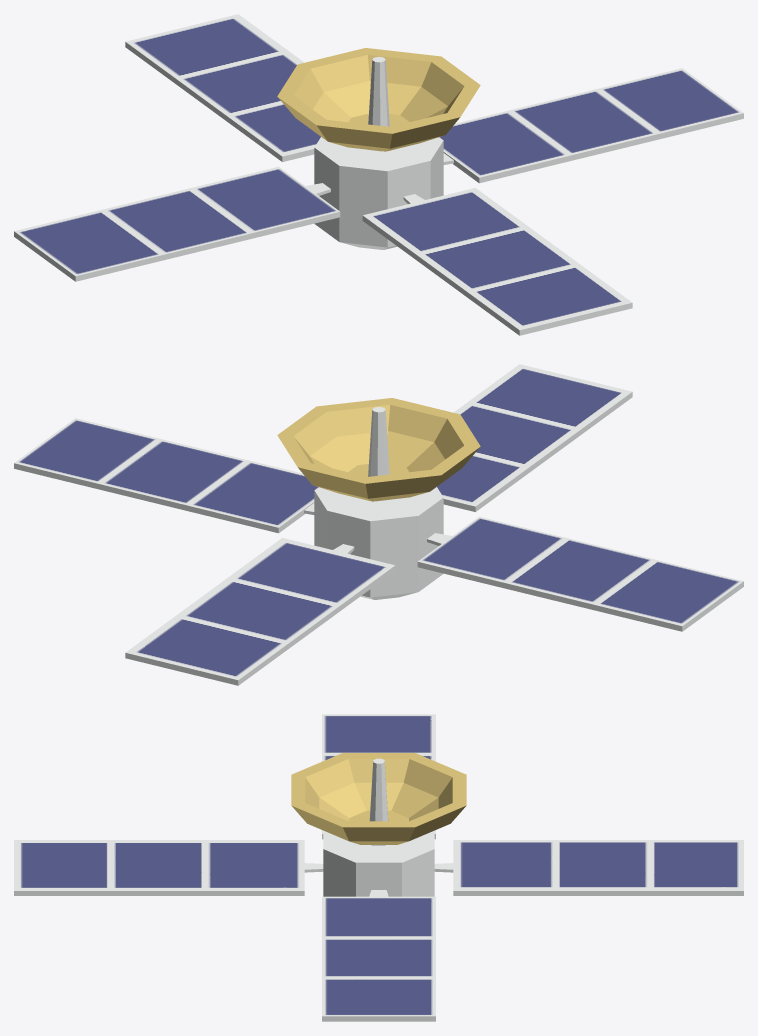
Rendered from Bayer.fbx.
3 views of the same model, one above another, from view 1: azimuth 30°, elevation 25°; view 2: azimuth 150°, elevation 25°; view 3: azimuth 270°, elevation 25° (orthographic). The views are drawn at different scales.
Visible parts, largest first — view 1: pCylinder1; view 2: pCylinder1; view 3: pCylinder1.
Part boxes in pixels (bbox=[...]): pCylinder1: bbox=[14, 14, 743, 335]; pCylinder1: bbox=[14, 364, 743, 685]; pCylinder1: bbox=[14, 714, 743, 1021].
Bounding box in the file's own units: 17.98 × 4.54 × 18.37.
1 material, 1 textured.
